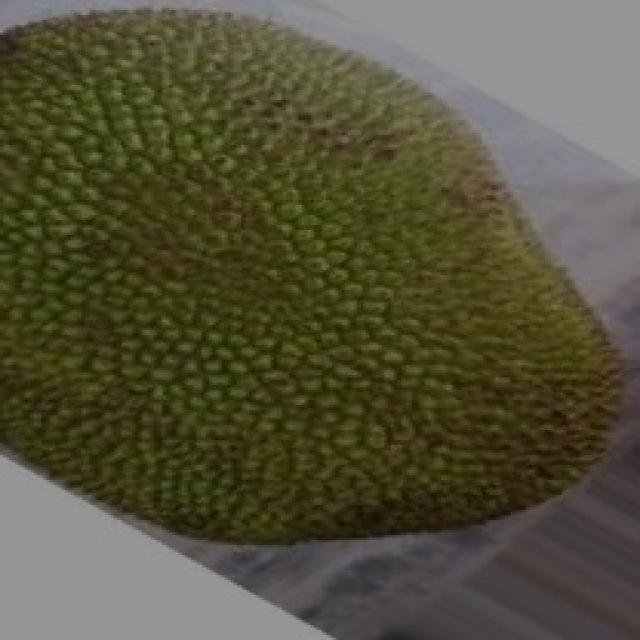Fruit: (0, 0, 409, 378), (240, 0, 637, 372)
